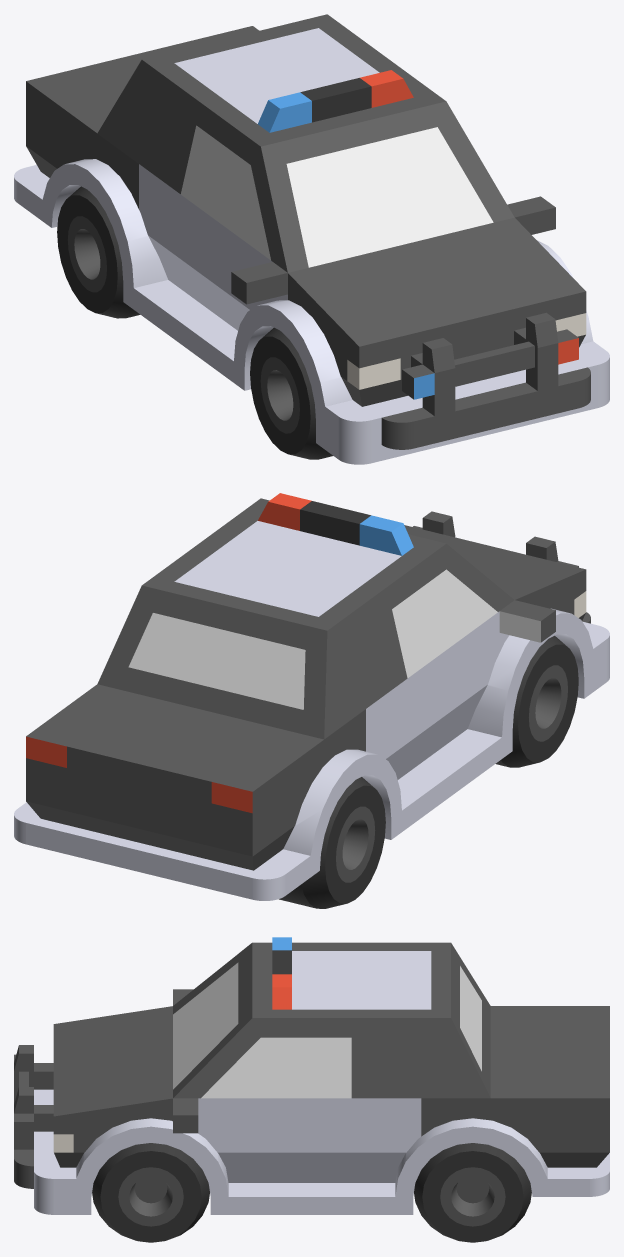
File: police.fbx
3 renders of one model, top to bottom at view 1: azimuth 30°, elevation 25°; view 2: azimuth 150°, elevation 25°; view 3: azimuth 270°, elevation 25°, orthographic. The views are drawn at different scales.
Parts seen in each view (by area): view 1: police; view 2: police; view 3: police.
Part boxes in pixels (<box>): police: <box>14,14,609,464</box>; police: <box>14,493,609,908</box>; police: <box>14,937,609,1242</box>.
Size of the model in its own units: 11.25 by 9.75 by 22.5.
